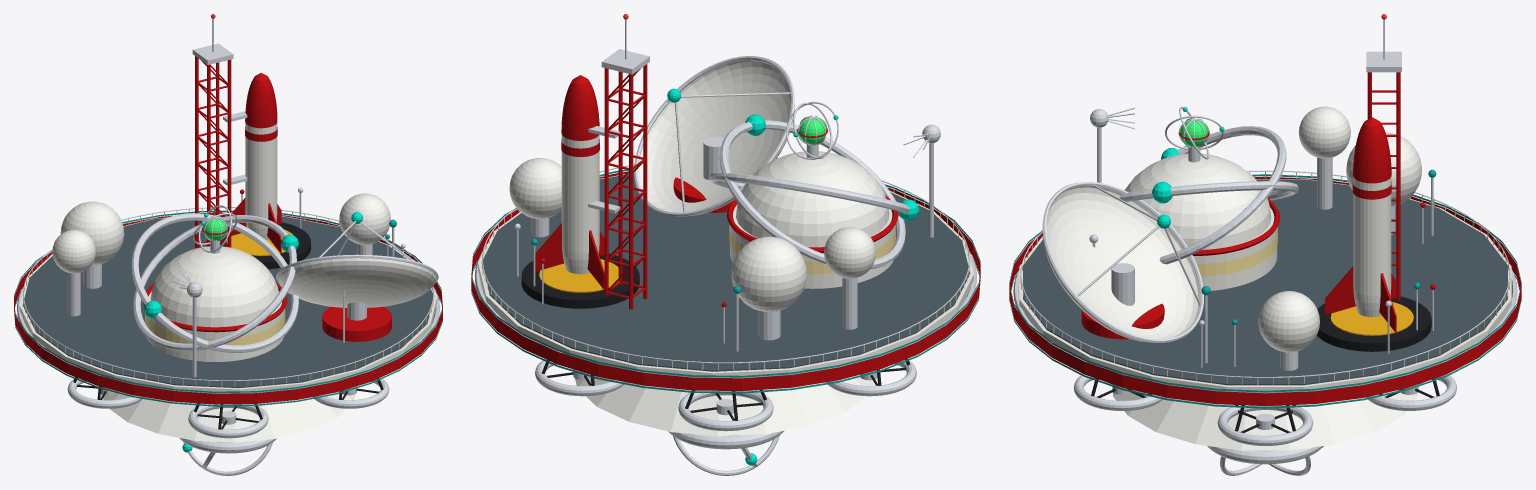
File: station_science.obj
3 views of the same model, side by side, from view 1: azimuth 30°, elevation 25°; view 2: azimuth 150°, elevation 25°; view 3: azimuth 270°, elevation 25° (orthographic). The views are drawn at different scales.
Visible parts, largest first — view 1: station_science; view 2: station_science; view 3: station_science.
Part boxes in pixels (x1,y1,x2,y2): station_science: [14, 14, 442, 475]; station_science: [471, 14, 980, 475]; station_science: [1009, 14, 1521, 475].
Size of the model in its own units: 1000 by 1046 by 1000.
1 material, 1 textured.
